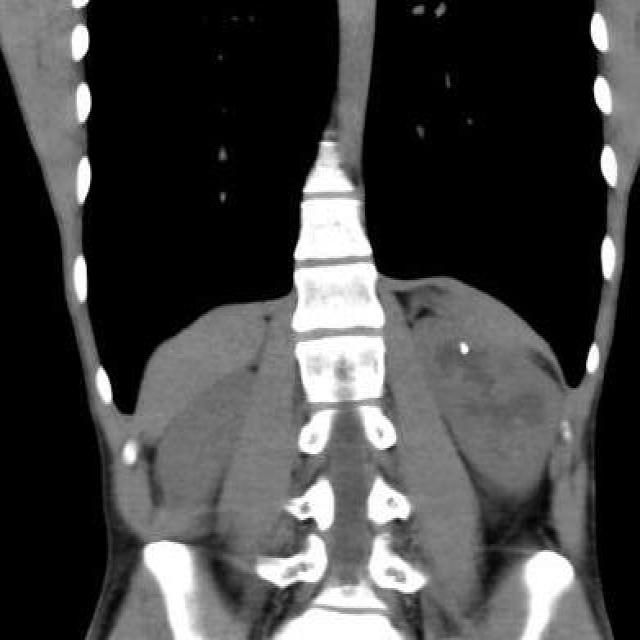Tas_Var: (459, 346, 469, 356), (458, 342, 468, 348)
